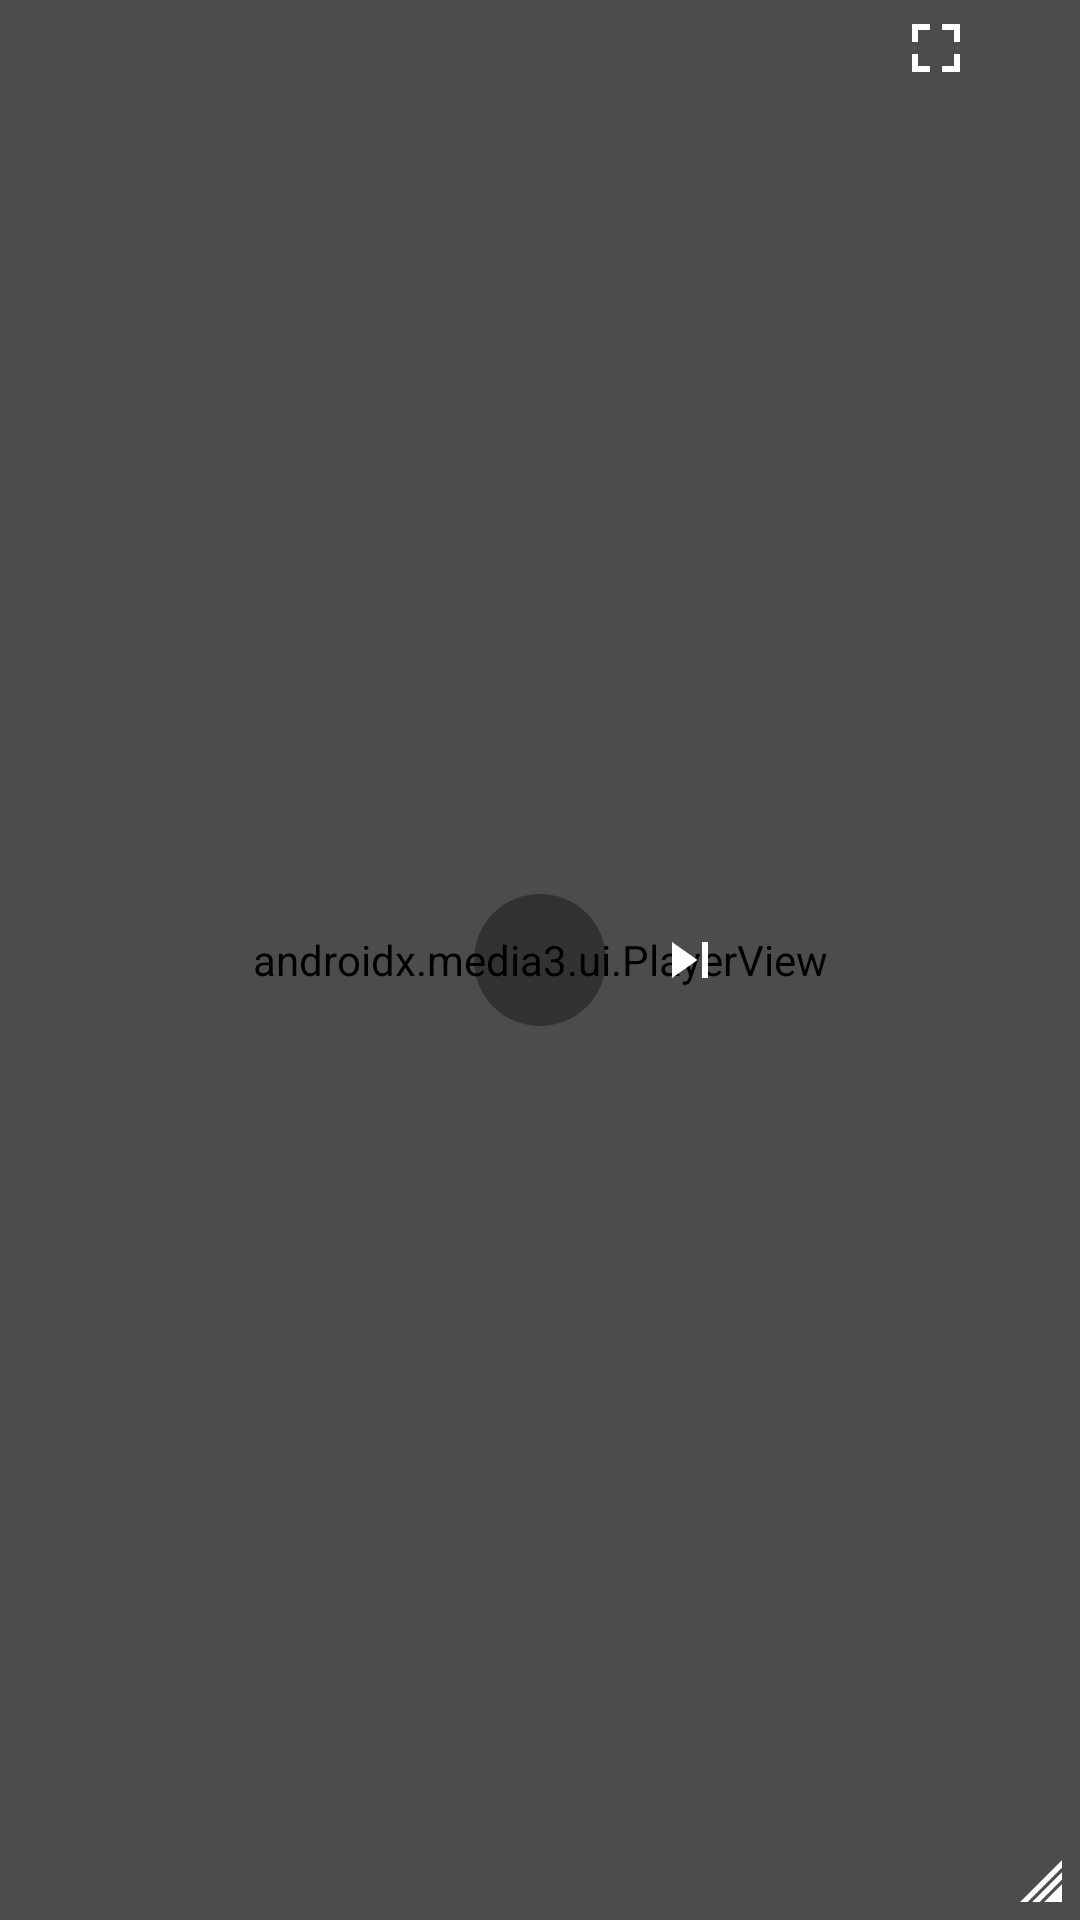

Icon bounding boxes for this 1080*1920 phone screenshot, format bbox(x1, y1, x2, y2):
Full screen: bbox(912, 24, 960, 72)
Next: bbox(652, 942, 737, 985)
Resize window: bbox(1020, 1860, 1062, 1902)
